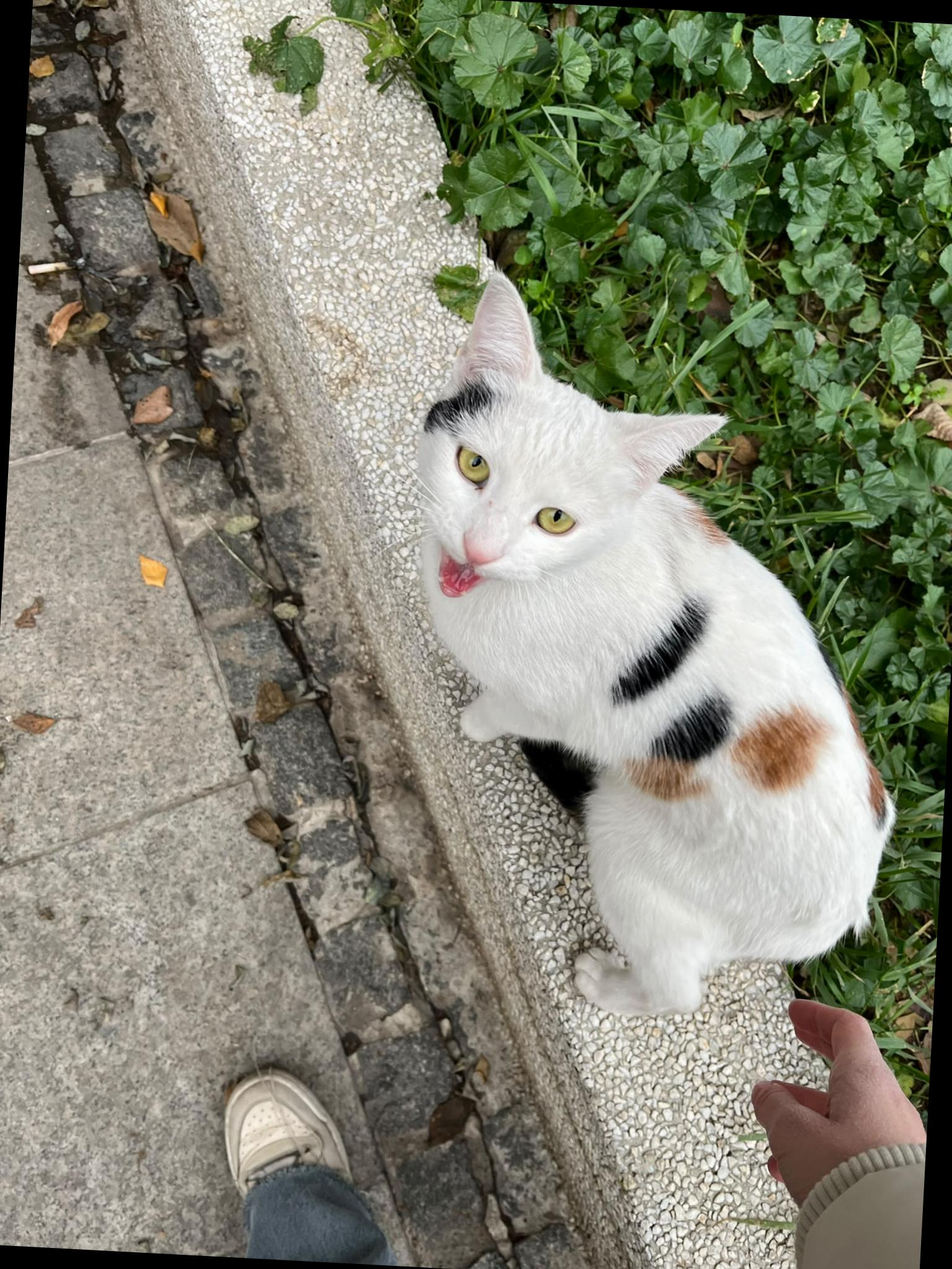macka: (378, 251, 925, 1030)
